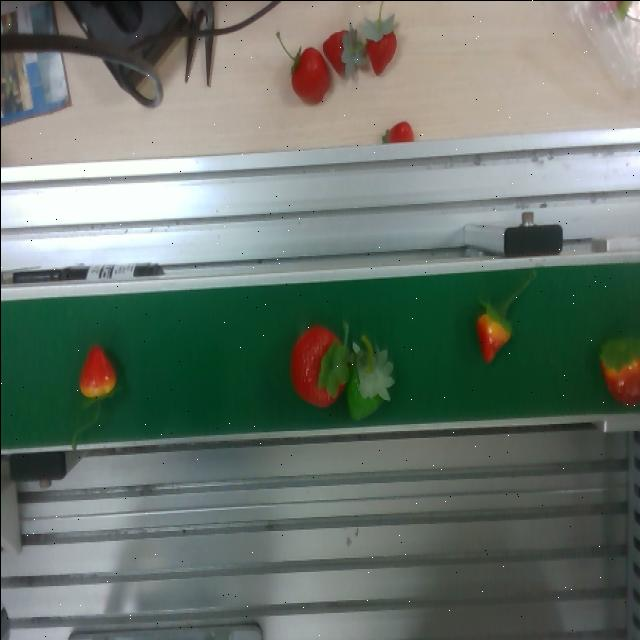Small Ripe Strawberry: (282, 322, 344, 416)
Small Unripe Strawberry: (596, 326, 640, 408), (70, 342, 120, 410), (465, 299, 513, 364), (345, 356, 391, 421)
